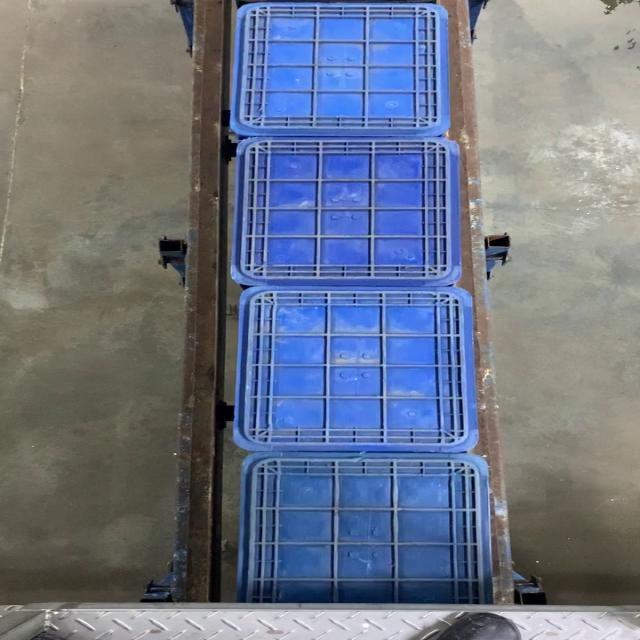Box: (234, 288, 476, 450), (231, 138, 463, 287), (234, 0, 447, 136)
